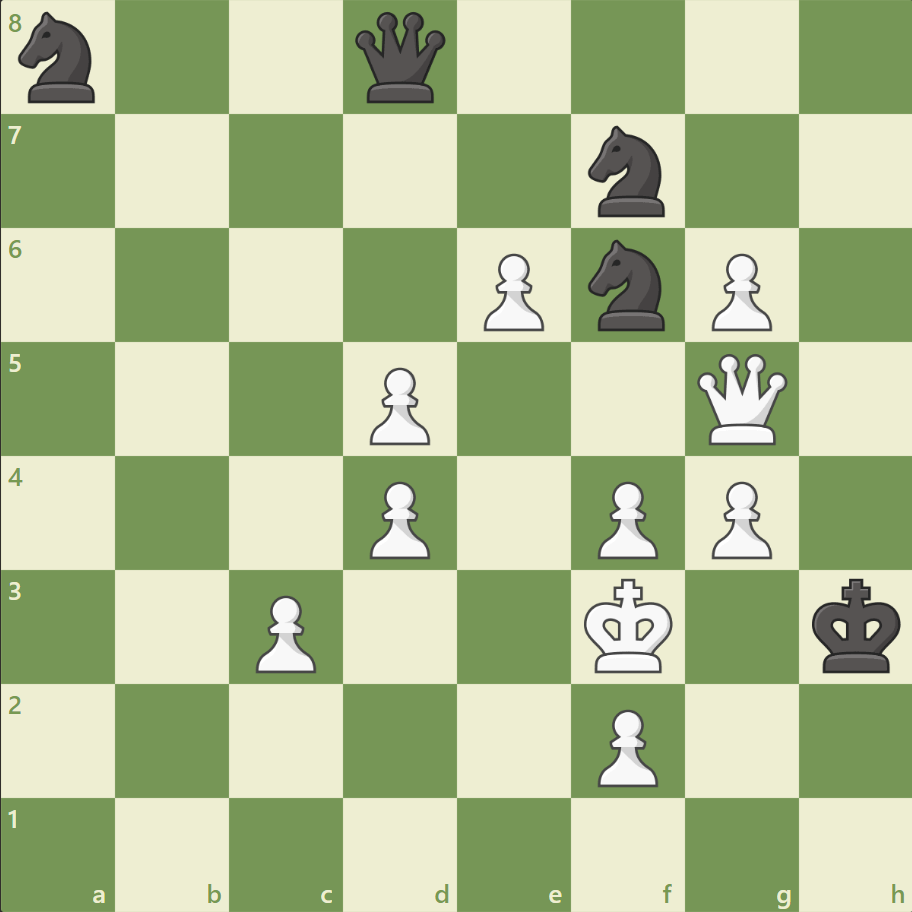K: (579, 571, 679, 679)
P: (474, 246, 549, 337), (701, 246, 776, 337), (701, 473, 776, 564), (247, 586, 322, 677), (361, 359, 435, 450), (361, 473, 435, 564), (588, 473, 662, 564), (588, 700, 662, 791)
Q: (691, 349, 790, 449)
k: (806, 571, 906, 679)
n: (11, 7, 108, 110), (579, 234, 676, 337), (579, 121, 676, 223)
q: (351, 9, 450, 108)
